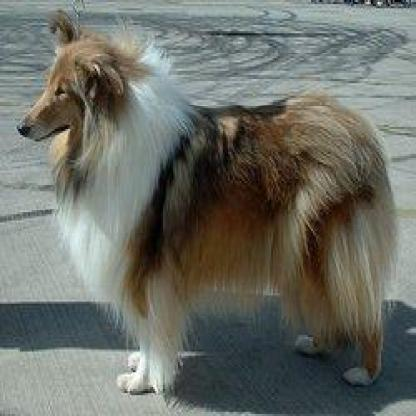collie: (13, 4, 393, 393)
